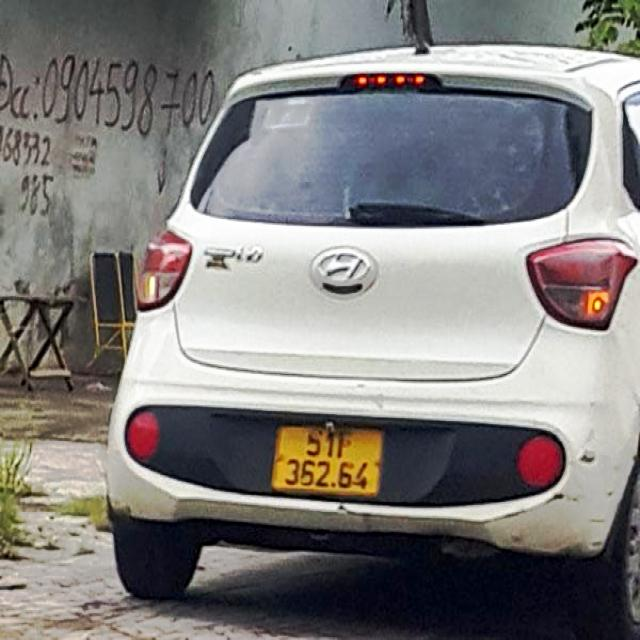license_plate: (272, 421, 385, 497)
